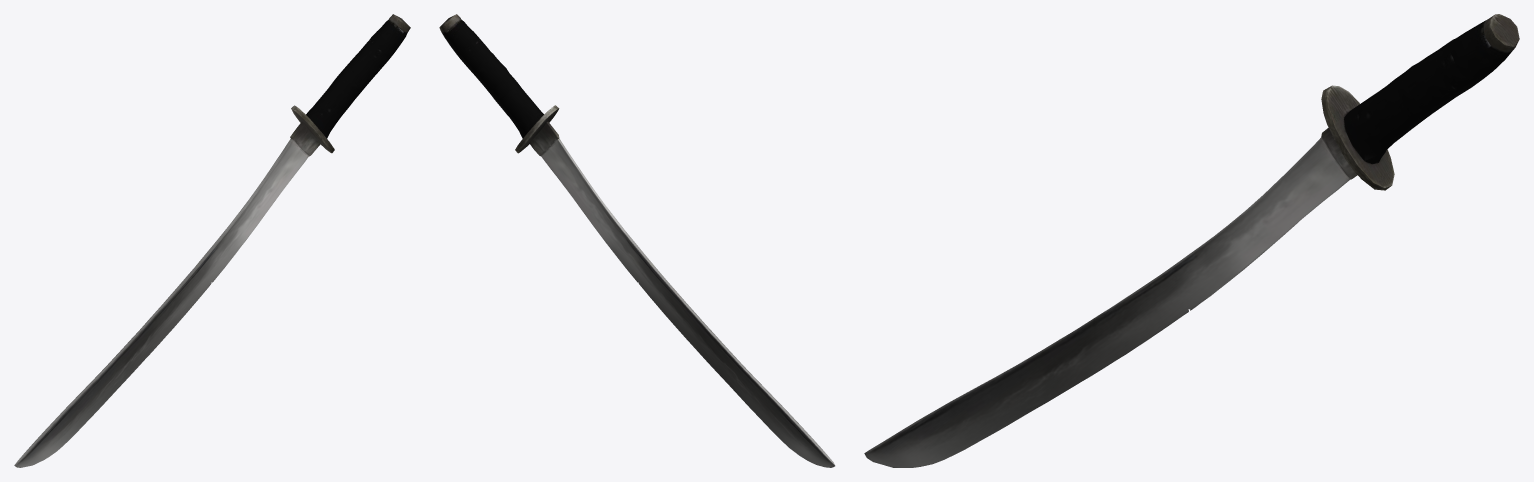
Rendered from masamune.glb.
The picture shows the model from 3 angles, left to right: view 1: azimuth 30°, elevation 25°; view 2: azimuth 150°, elevation 25°; view 3: azimuth 330°, elevation 25°; orthographic projection. The views are drawn at different scales.
Visible parts, largest first — view 1: geom0; view 2: geom0; view 3: geom0.
Part boxes in pixels (box(x1,y1,x2,y2)): geom0: box(14, 14, 410, 467); geom0: box(439, 14, 835, 467); geom0: box(864, 14, 1519, 467).
Bounding box in the file's own units: 1 × 0.8797 × 0.0802.
1 material, 1 textured.
